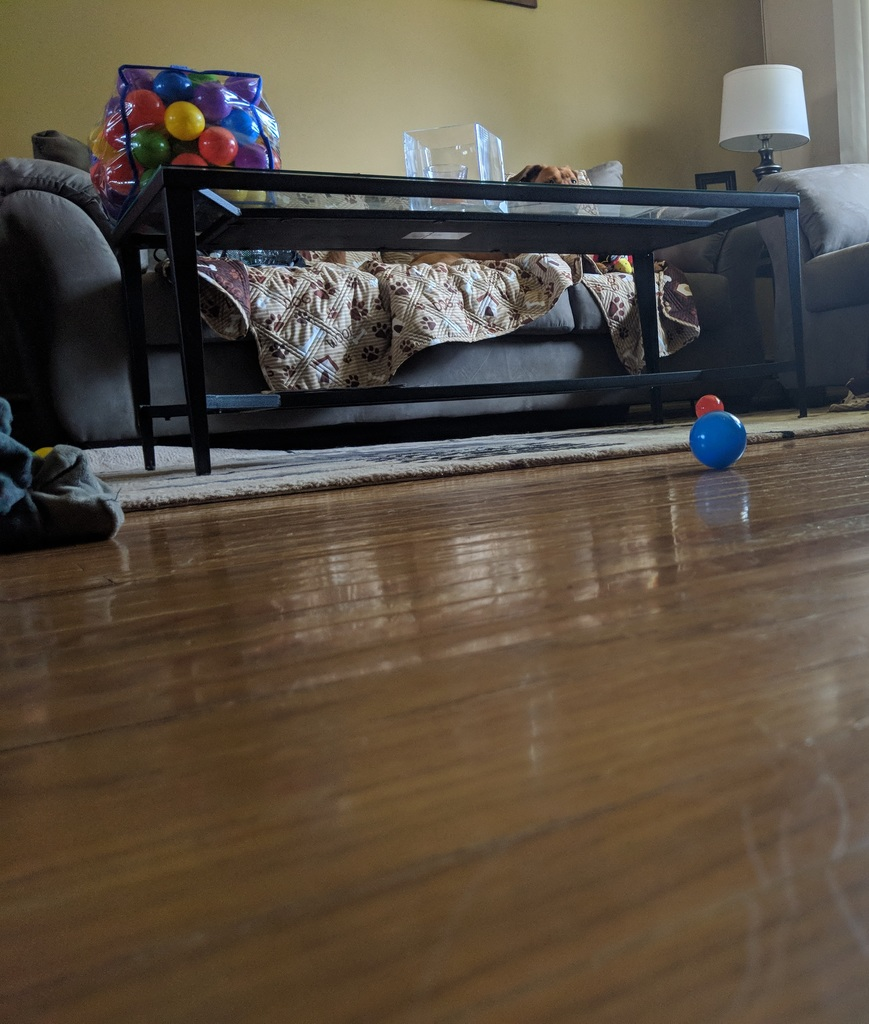ball: (685, 408, 750, 473)
